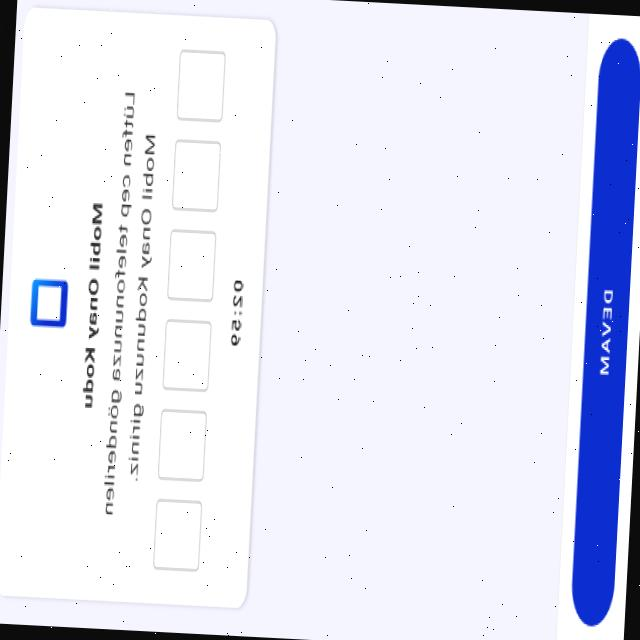QLabel: (598, 283, 616, 382)
VBtn: (567, 39, 640, 627)
VCard: (0, 6, 277, 609)
VFooter: (554, 13, 640, 640)
